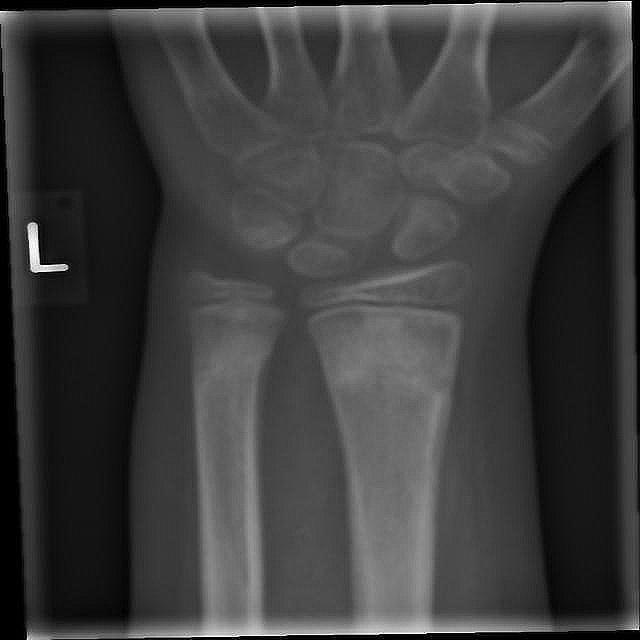bone: (314, 318, 464, 406), (185, 338, 278, 392)
